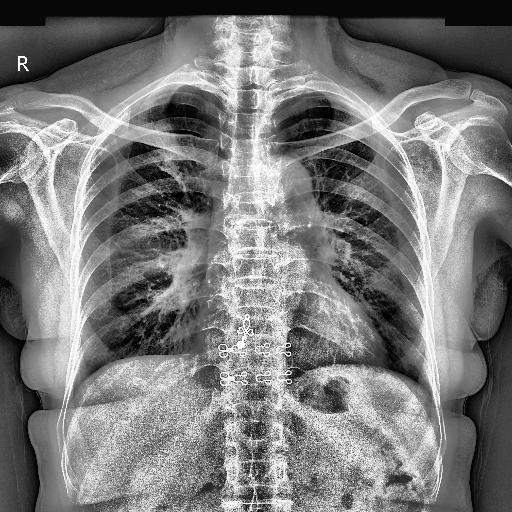0- Aortic enlargement: (252, 154, 314, 230), (259, 154, 318, 233), (256, 154, 314, 214)
11- Pleural thickening: (152, 80, 204, 94)
3- Cardiomegaly: (196, 296, 388, 368), (196, 312, 390, 378)
